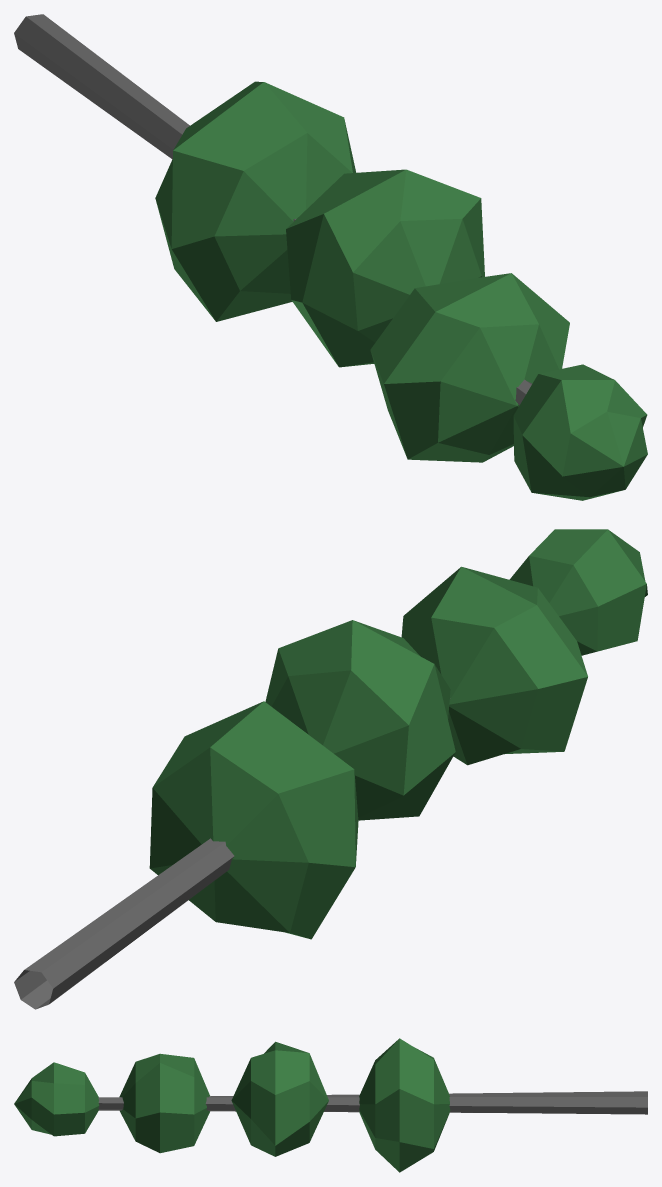
File: grown.glb
The picture shows the model from 3 angles, top to bottom: view 1: azimuth 30°, elevation 25°; view 2: azimuth 150°, elevation 25°; view 3: azimuth 270°, elevation 25°; orthographic projection. The views are drawn at different scales.
Parts seen in each view (by area): view 1: tree_06_grown; view 2: tree_06_grown; view 3: tree_06_grown.
Part boxes in pixels (bbox=[...]): tree_06_grown: bbox=[14, 14, 647, 500]; tree_06_grown: bbox=[14, 529, 647, 1009]; tree_06_grown: bbox=[14, 1038, 647, 1172].
Size of the model in its own units: 11.34 by 11.84 by 55.42.
